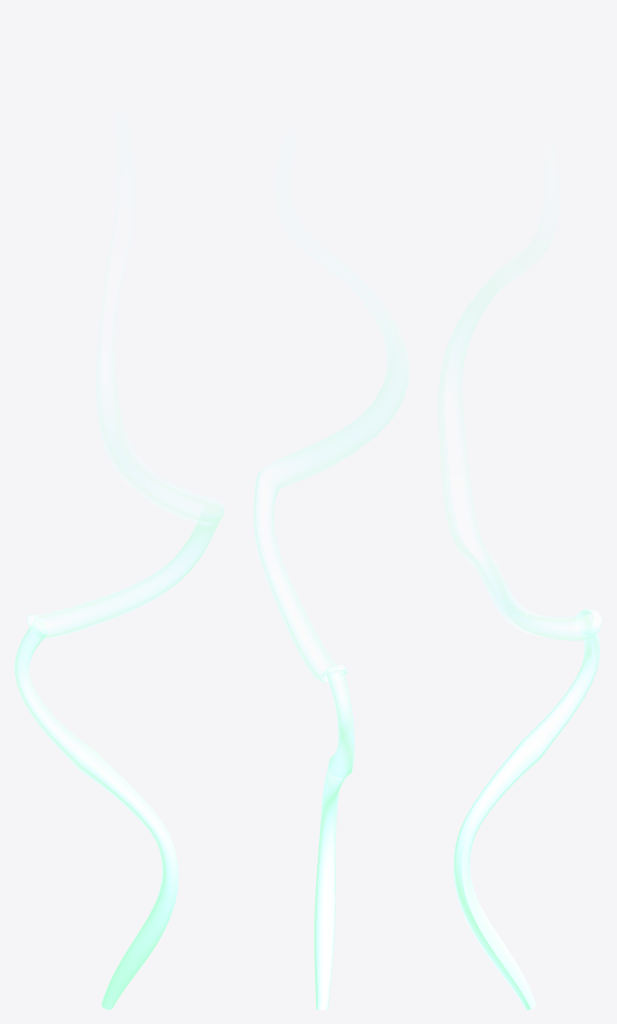
File: strand_c_supply.glb
3 views of the same model, side by side, from view 1: azimuth 30°, elevation 25°; view 2: azimuth 150°, elevation 25°; view 3: azimuth 270°, elevation 25° (orthographic).
Size of the model in its own units: 1.42 by 9.03 by 1.36.
